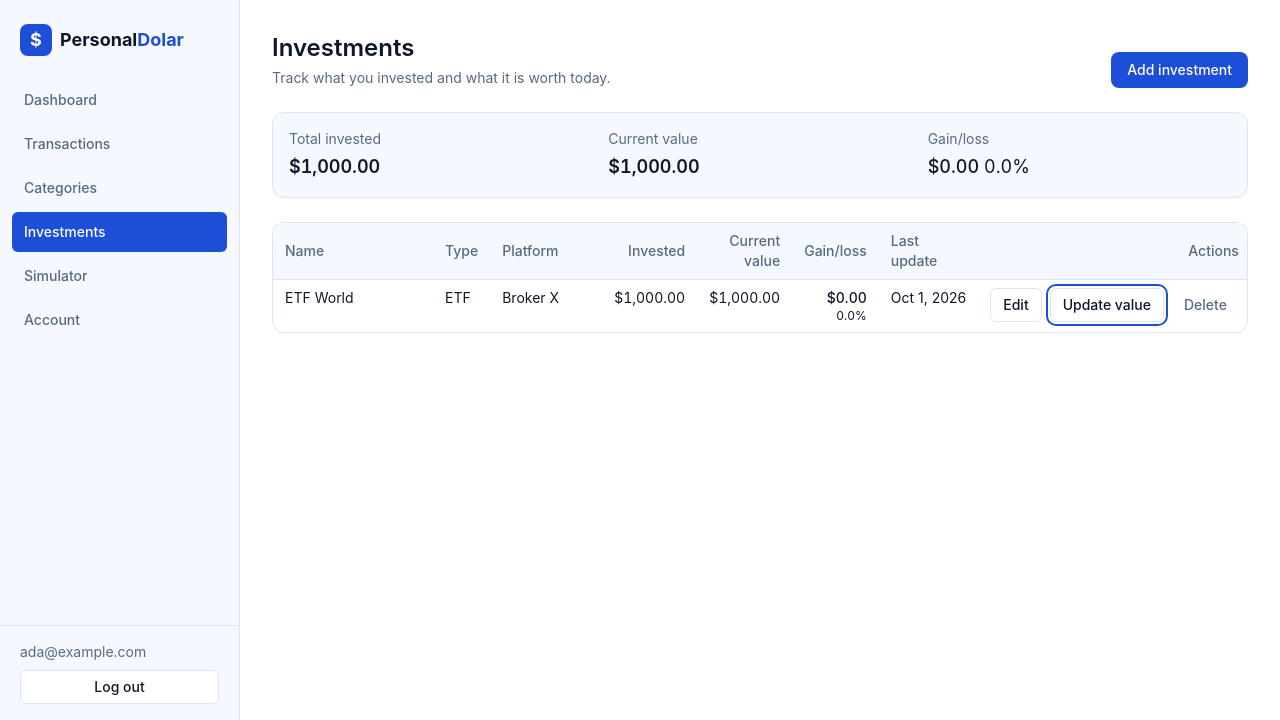
Test: saving a new value › trims the typed value
Check: the table named "Investments" is shown, box [273,223,1248,332]
Click the button with aria-label "Update value of ETF World" at (1107, 305), box [1050,288,1164,322]
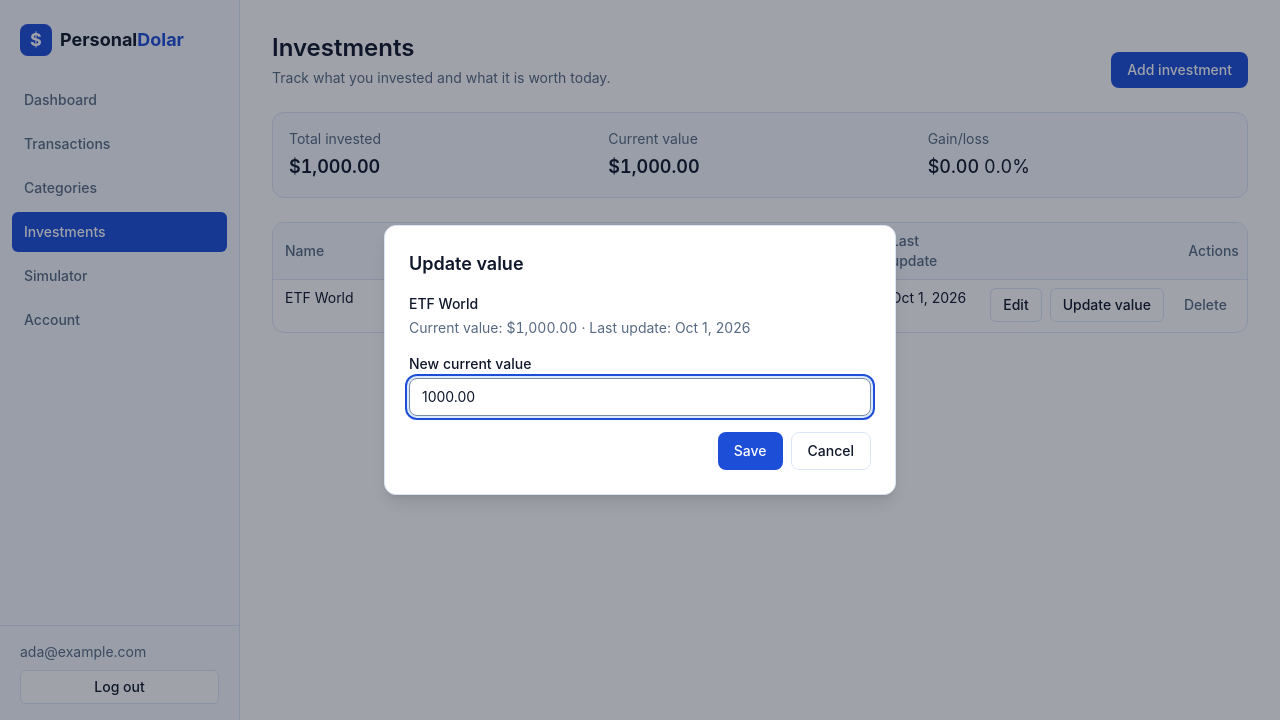
Replace the text in the field labelled "New current value" with "  1150.5 " at (640, 397), box [409,378,871,416]
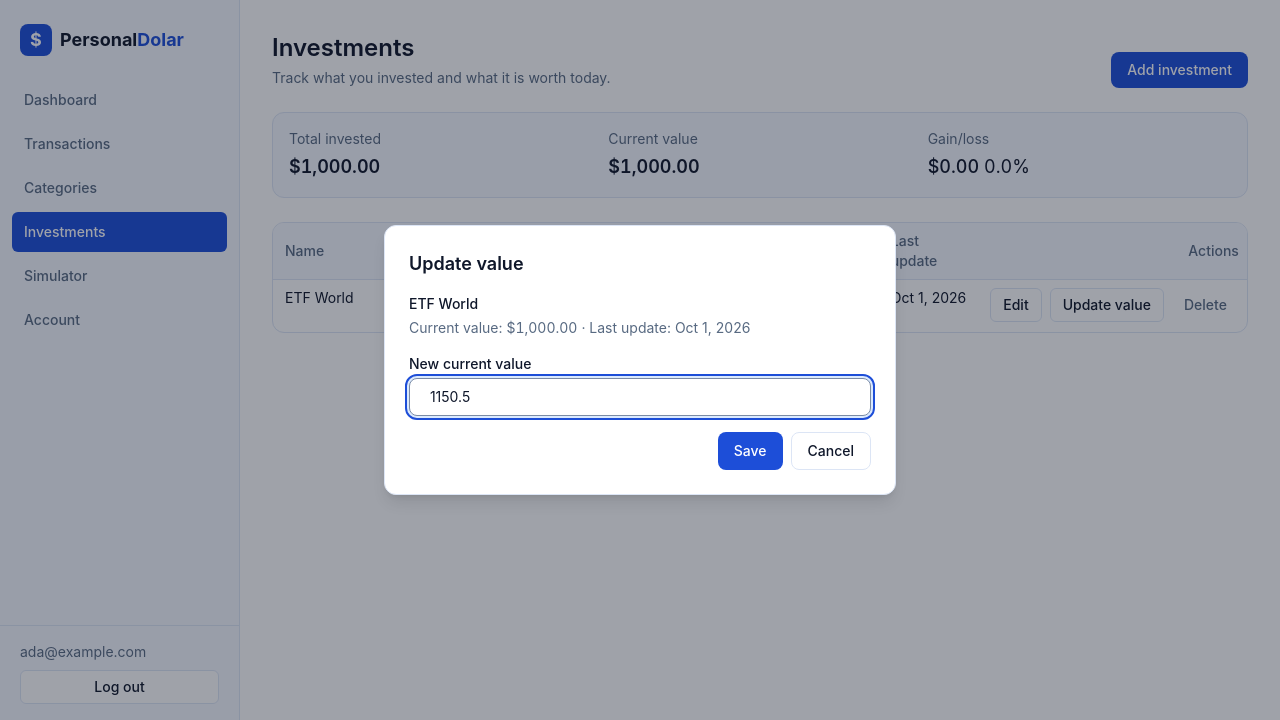
Click the button "Save" at (750, 451), box [718,432,782,470]
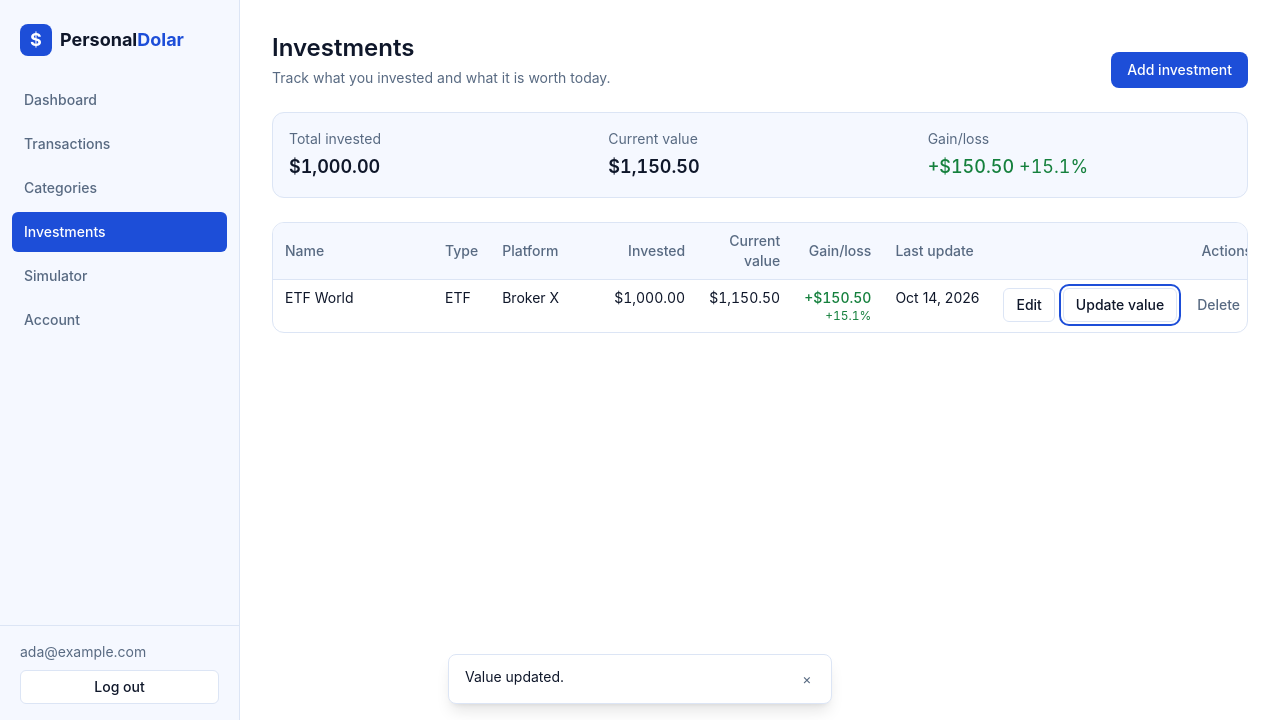
Check: the text "Value updated." is shown, box [465,668,564,685]
